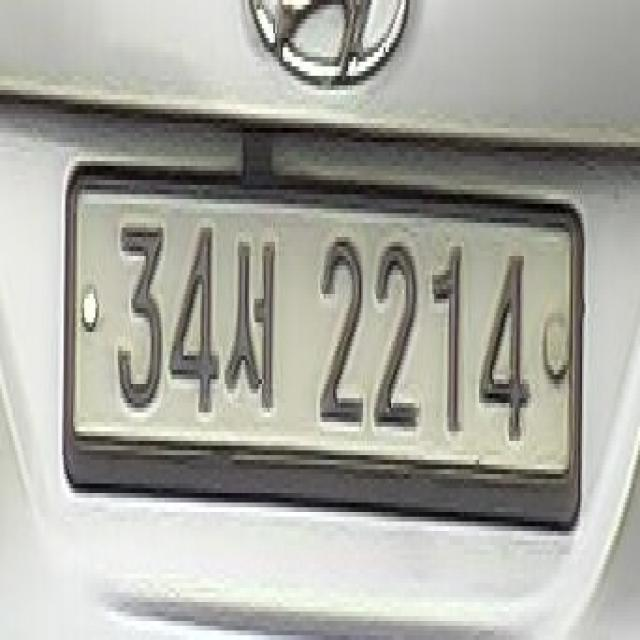1: (430, 237, 462, 431)
2: (372, 237, 423, 446), (314, 233, 367, 432)
3: (114, 214, 167, 412)
4: (475, 246, 530, 441), (166, 223, 221, 412)
license_plate: (67, 170, 580, 498)
seo: (225, 237, 277, 412)
